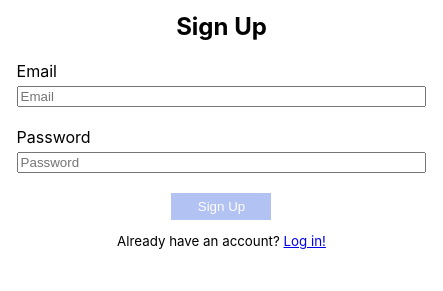
Scenario: signup not allowed with invalid email
In the field labelled "Email": (222, 96) [17,86,426,107], type "thisemailisnotanemail"
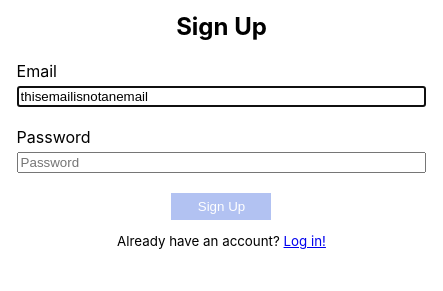
In the password field labelled "Password": (222, 162) [17,152,426,173], type "pass1234"
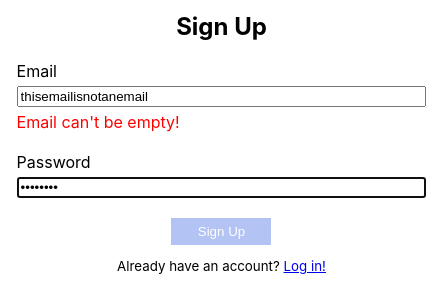
Click the field labelled "Email": (222, 96) [17,86,426,107]
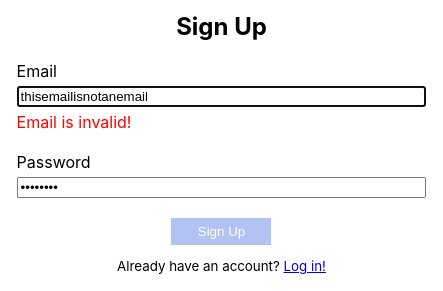
Check: the button is disabled, box [172,218,272,245]
Check: the text "Email is invalid!" is shown, box [17,112,131,132]
